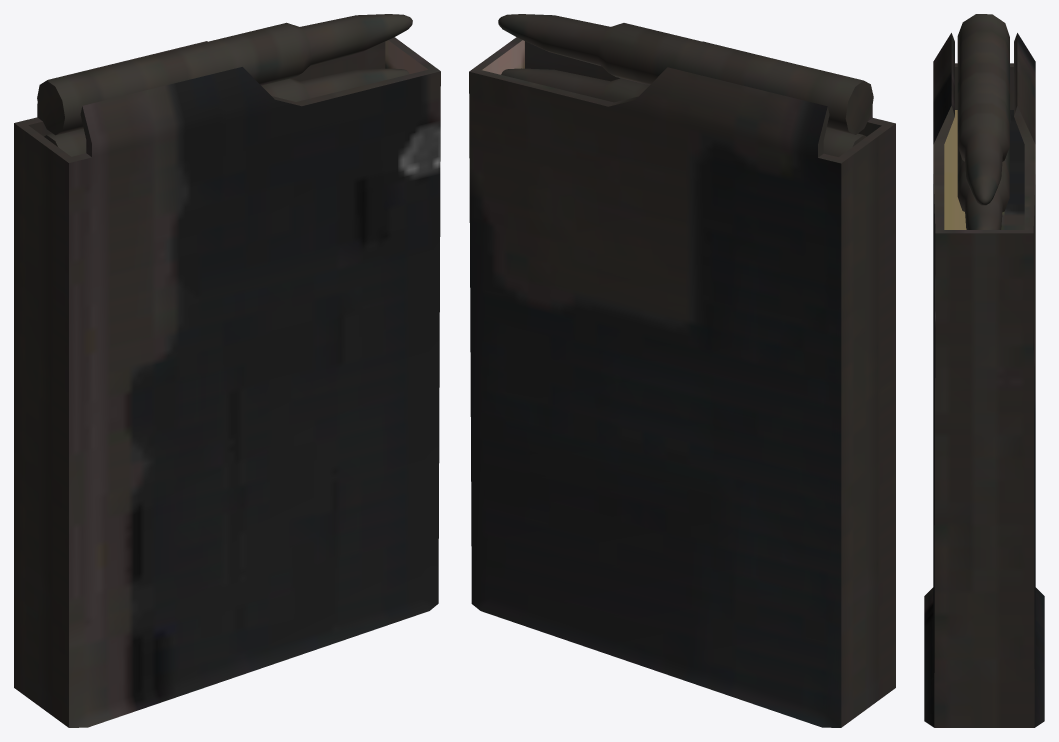
File: ST_MAG_EX_AWM.FBX
3 renders of one model, left to right at view 1: azimuth 30°, elevation 25°; view 2: azimuth 150°, elevation 25°; view 3: azimuth 270°, elevation 25°, orthographic. The views are drawn at different scales.
Parts seen in each view (by area): view 1: ST_MAG_EX_AWM; view 2: ST_MAG_EX_AWM; view 3: ST_MAG_EX_AWM.
Boxes of the visible parts, left/top/right/bottom form: ST_MAG_EX_AWM: left=14, top=14, right=440, bottom=727; ST_MAG_EX_AWM: left=469, top=14, right=895, bottom=727; ST_MAG_EX_AWM: left=924, top=14, right=1044, bottom=727.
Size of the model in its own units: 8.68 by 13.82 by 2.6.
Materials: 1 (1 with a texture image).
